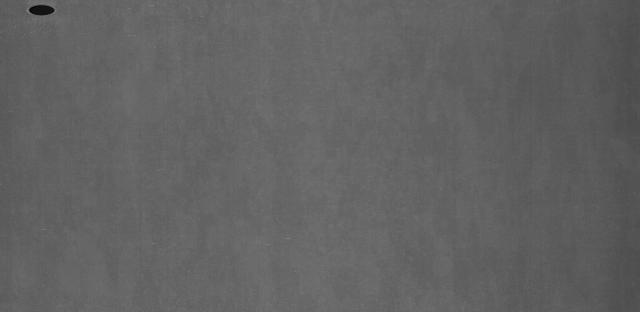punching_hole: (24, 0, 61, 21)
